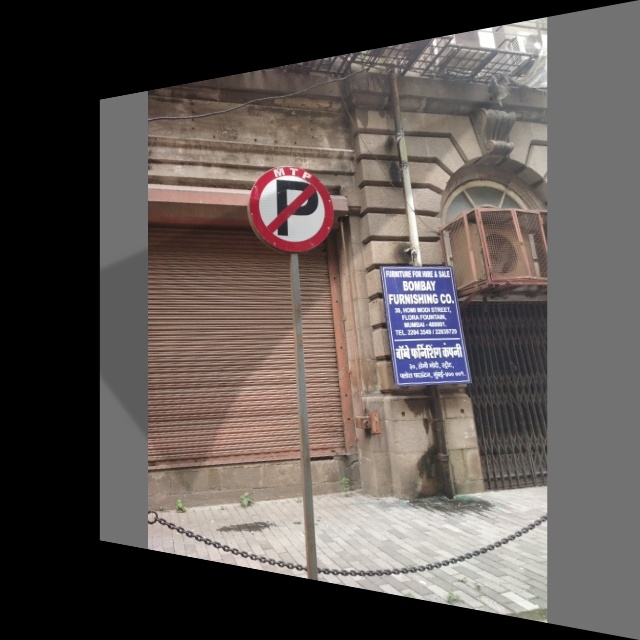No_Parking: (248, 155, 337, 256)
